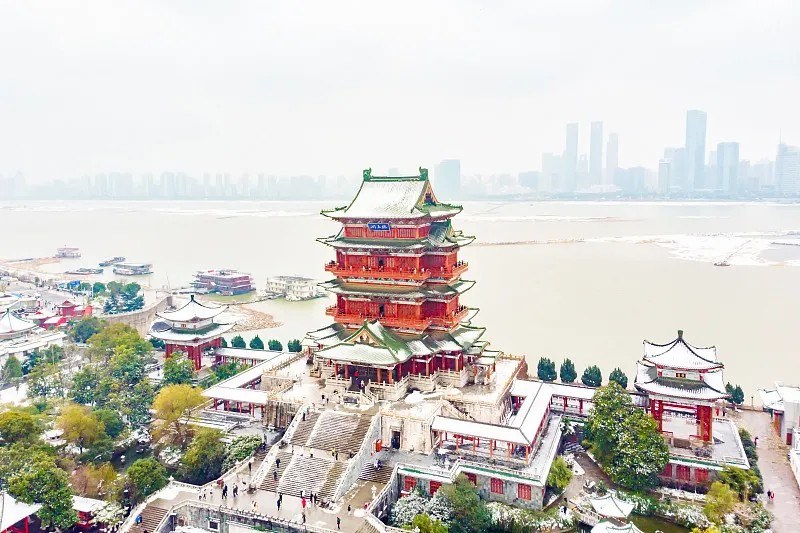Teng: (298, 166, 504, 390)
